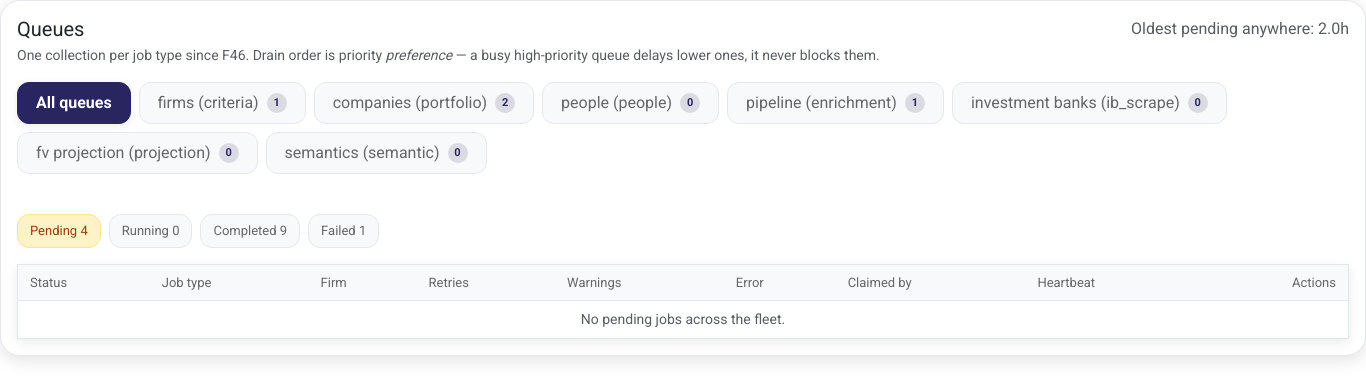
Test: QueuesPanel All tab › refetches the fleet-wide table when a status is chosen
Check: the text "No pending jobs across the fleet." is shown, box [18,300,1348,338]
Step 1. Click the button "Failed 1" → [344, 231], box [308,214,379,248]
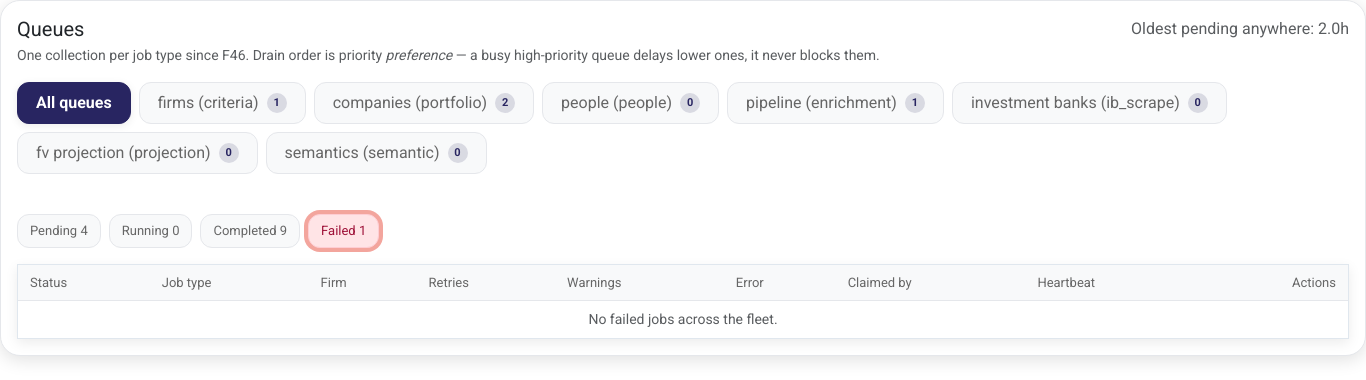
Check: the text "No failed jobs across the fleet." is shown, box [18,300,1348,338]
